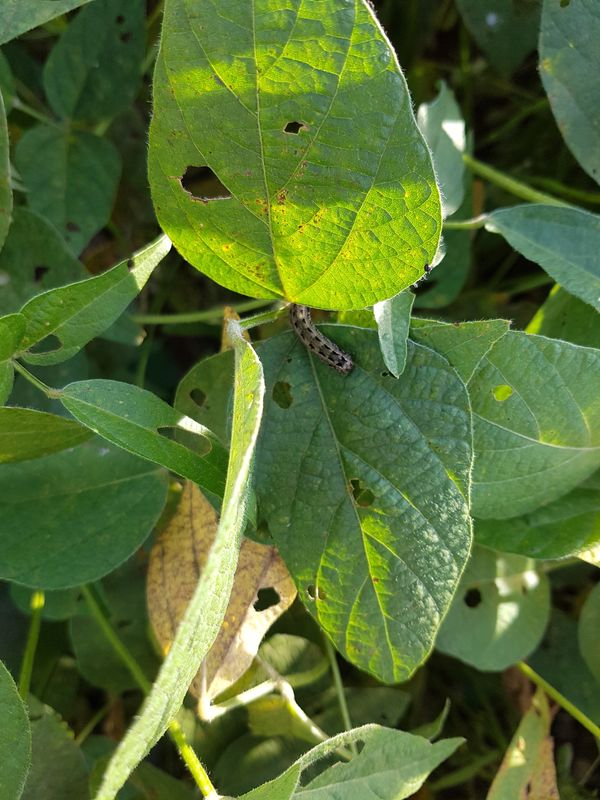Spodoptera_albula: (272, 289, 375, 390)
